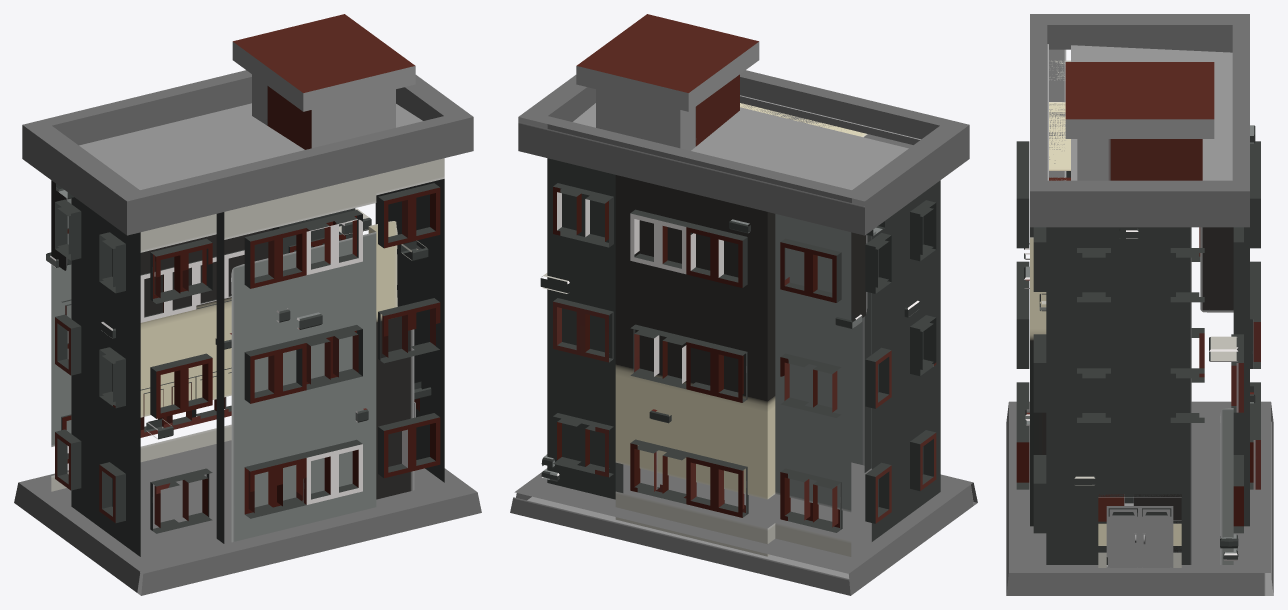
File: Building_Long.fbx
The picture shows the model from 3 angles, left to right: view 1: azimuth 30°, elevation 25°; view 2: azimuth 150°, elevation 25°; view 3: azimuth 270°, elevation 25°; orthographic projection. The views are drawn at different scales.
Visible parts, largest first — view 1: DummyBuilding; view 2: DummyBuilding; view 3: DummyBuilding.
Boxes of the visible parts, bbox=[...] form: DummyBuilding: bbox=[14, 14, 481, 595]; DummyBuilding: bbox=[510, 14, 977, 595]; DummyBuilding: bbox=[1006, 14, 1273, 595].
Size of the model in its own units: 1131 by 1358 by 719.
